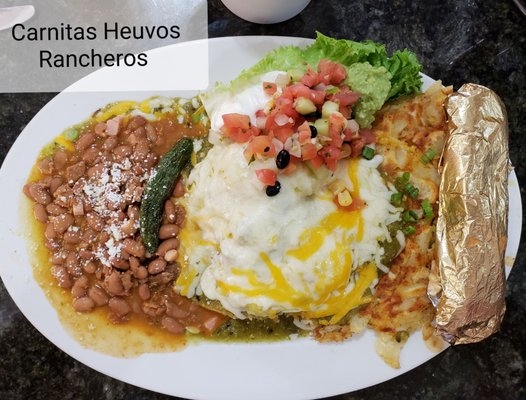pizza: (219, 0, 311, 24)
sandwich: (434, 81, 510, 345)
